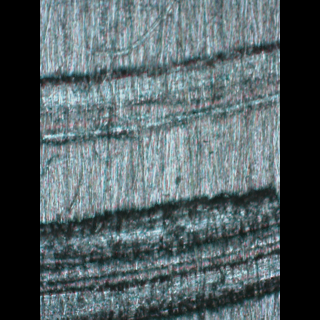d: (41, 185, 280, 319), (40, 38, 275, 146)
